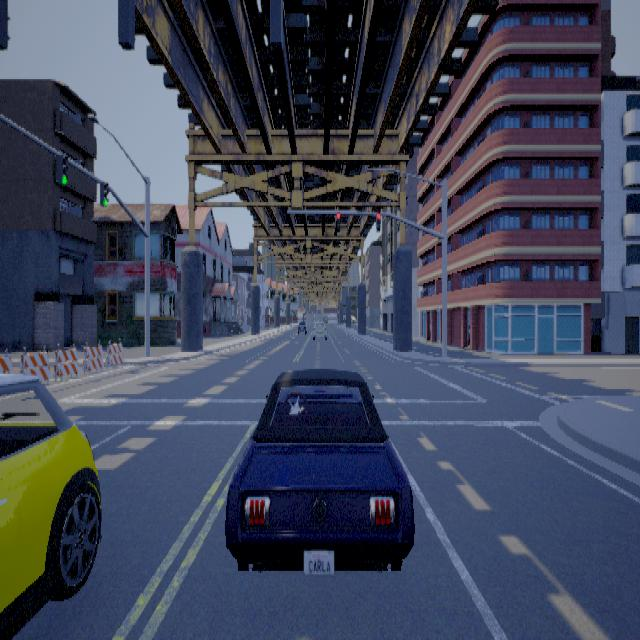green_light: (57, 154, 67, 186), (99, 180, 108, 206)
red_light: (375, 210, 380, 230), (336, 210, 339, 230)
vehicle: (224, 367, 414, 573), (0, 372, 101, 638), (312, 318, 328, 342), (294, 316, 308, 338)
